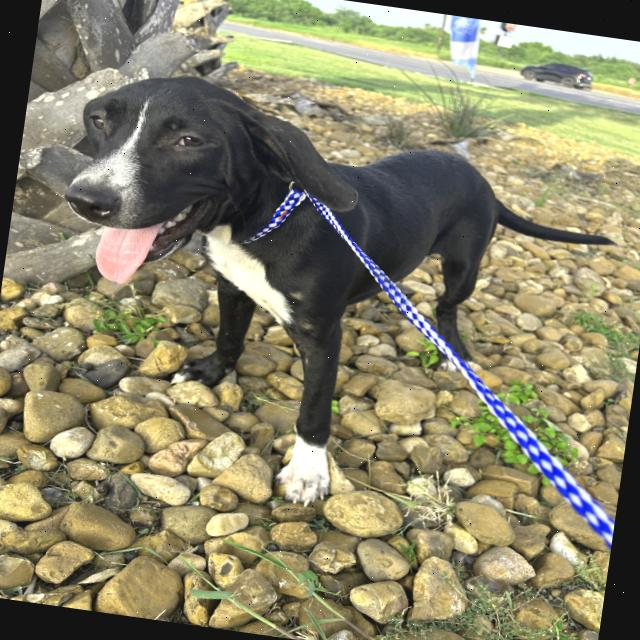labrador_retriever_dog: (32, 54, 390, 330)
